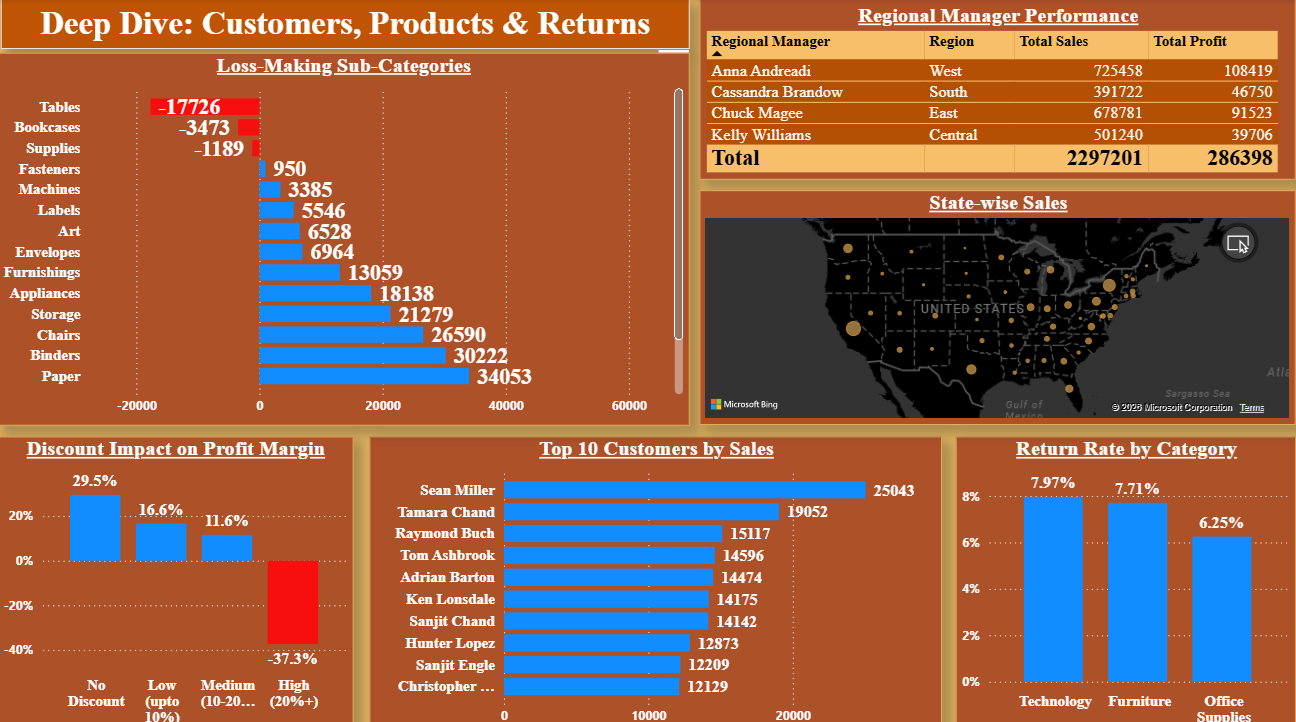

This screenshot's page, from the dashboard's own definition file:
{"tool":"powerbi","page":{"name":"Page 2","canvas":[1280,720],"ordinal":1},"visuals":[{"type":"textbox","box":[13.5,0,673.8,48.9],"z":0},{"type":"clusteredBarChart","title":"Top 10 Customers by Sales","fields":{"Category":["superstore_sales orders.Customer Name"],"Y":["Sum(superstore_sales orders.Sales)"]},"box":[374.2,428,560.1,292.3],"z":1000},{"type":"clusteredBarChart","title":"Loss-Making Sub-Categories","fields":{"Category":["superstore_sales orders.Sub-Category"],"Y":["Sum(superstore_sales orders.Profit)"]},"box":[9.8,52.6,677.4,364.4],"z":2000},{"type":"clusteredColumnChart","title":"Discount Impact on Profit Margin","fields":{"Category":["superstore_sales orders.Discount Range"],"Y":["superstore_sales orders.Profit Margin %"]},"box":[9.8,428,348.5,292.3],"z":3000},{"type":"clusteredColumnChart","title":"Return Rate by Category","fields":{"Category":["superstore_sales orders.Category"],"Y":["superstore_sales orders.Return Rate %"]},"box":[947.7,428,332.6,292.3],"z":4000},{"type":"tableEx","title":"Regional Manager Performance","fields":{"Values":["superstore_sales people.Person","superstore_sales orders.Region","Sum(superstore_sales orders.Sales)","Sum(superstore_sales orders.Profit)"]},"box":[697,0,583,177],"z":5000},{"type":"map","title":"State-wise Sales","fields":{"Category":["superstore_sales orders.State"],"Size":["Sum(superstore_sales orders.Sales)"]},"box":[697,187.1,583.3,229.9],"z":6000}]}

Visuals, with their boxes in screenshot pixels (x1, y1, x2, y2), scaled from the page's 1280x720 canvas onto the 1296x722 screenshot:
textbox: <box>14,0,696,49</box>
"Top 10 Customers by Sales" clusteredBarChart: <box>379,429,946,721</box>
"Loss-Making Sub-Categories" clusteredBarChart: <box>10,53,696,418</box>
"Discount Impact on Profit Margin" clusteredColumnChart: <box>10,429,363,721</box>
"Return Rate by Category" clusteredColumnChart: <box>960,429,1295,721</box>
"Regional Manager Performance" tableEx: <box>706,0,1295,177</box>
"State-wise Sales" map: <box>706,188,1295,418</box>
